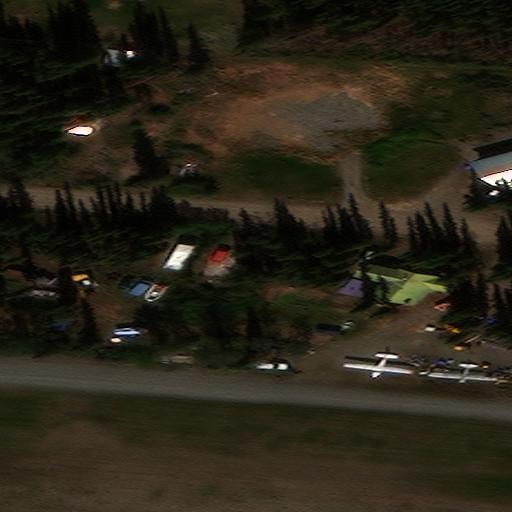Small Civil Transport: (343, 353, 412, 377), (428, 363, 497, 383)
